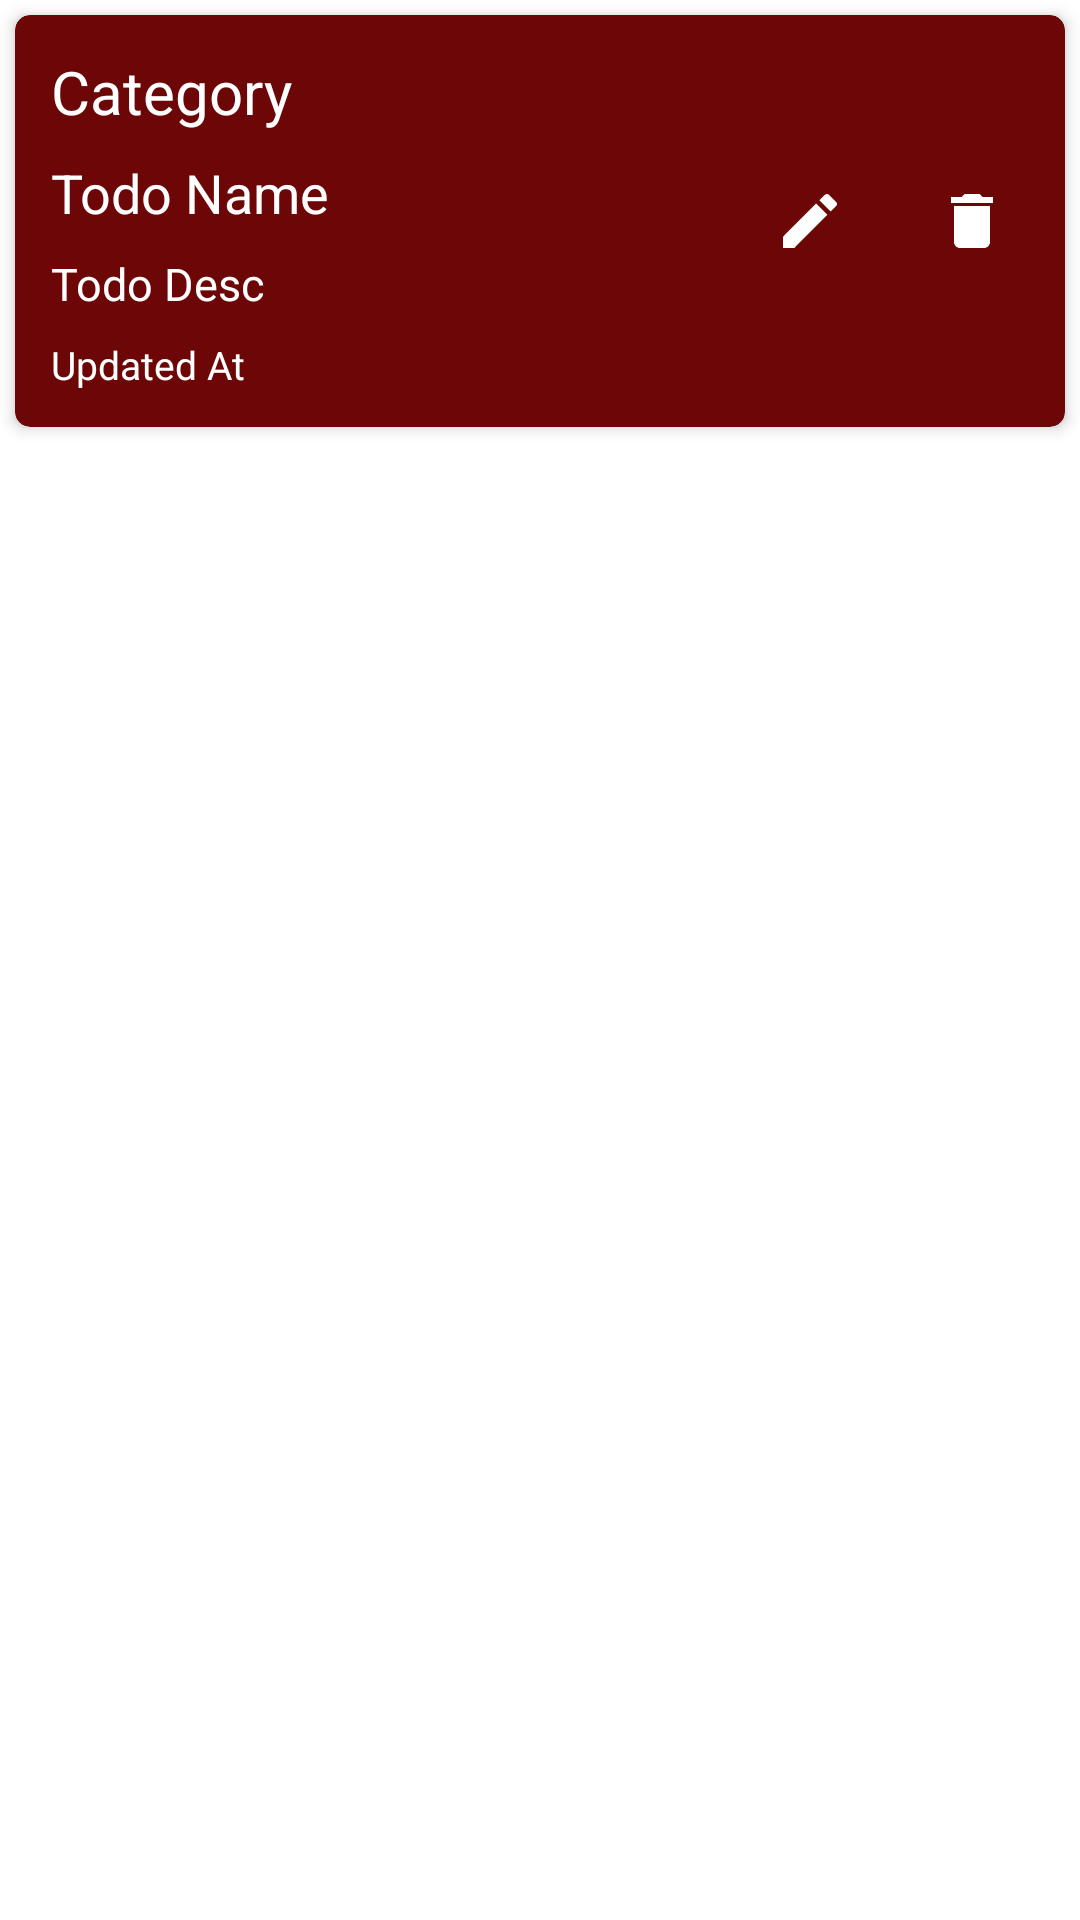

Icons on this 1080 × 1920 Android screen, each with its box as (x1, y1, x2, y2):
delete: (951, 194, 993, 248)
edit: (783, 194, 837, 248)
